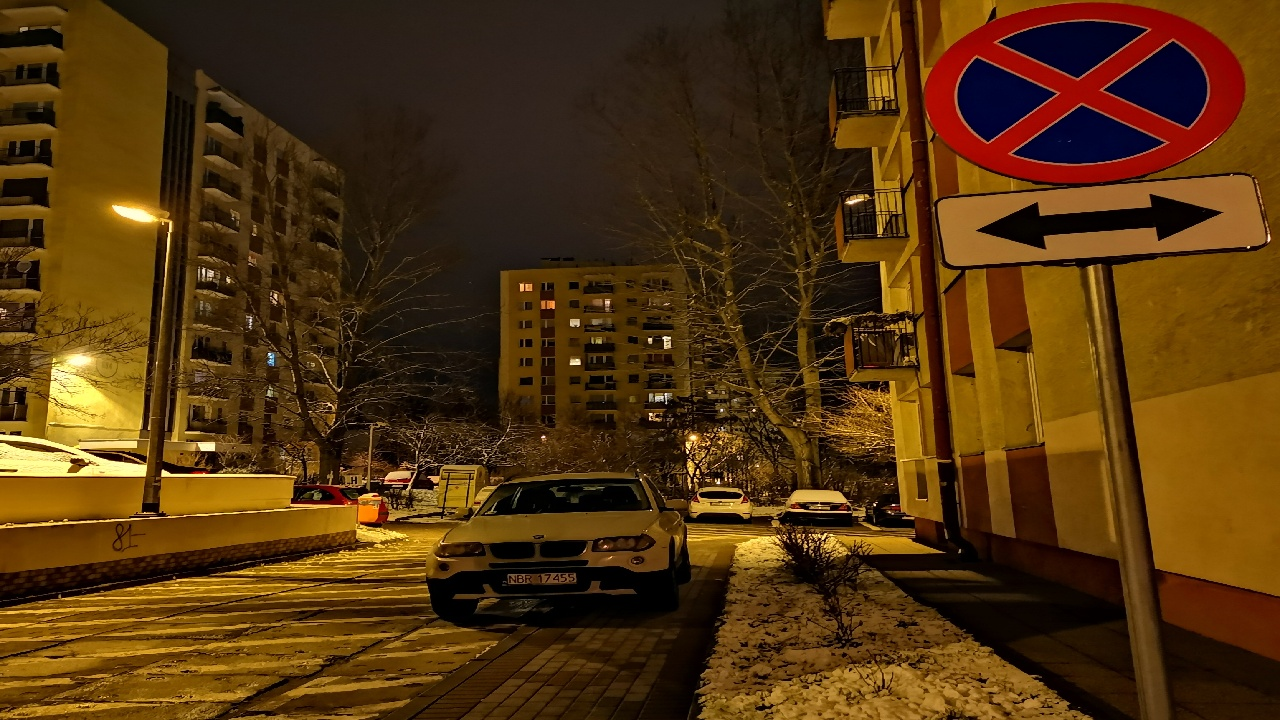B36: (925, 5, 1248, 186)
